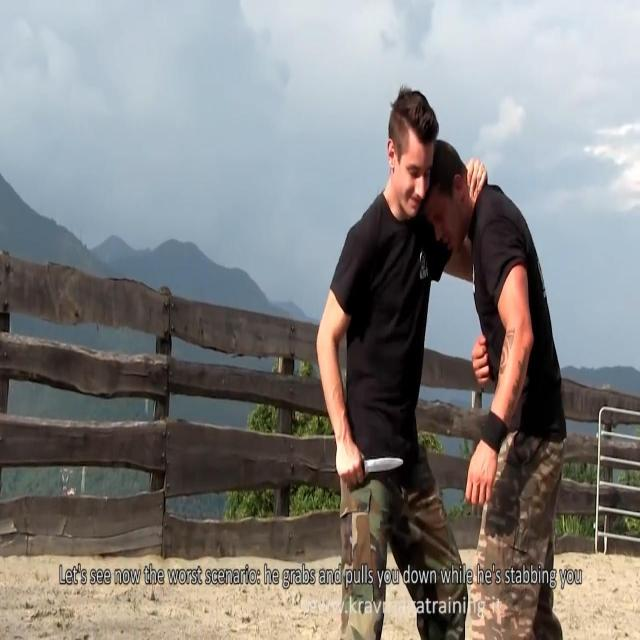Knife: (332, 445, 408, 498)
